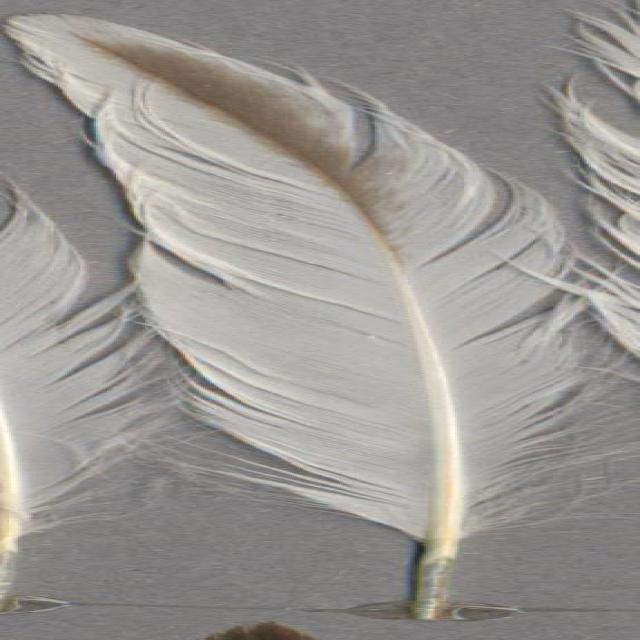feather: (0, 10, 640, 614)
